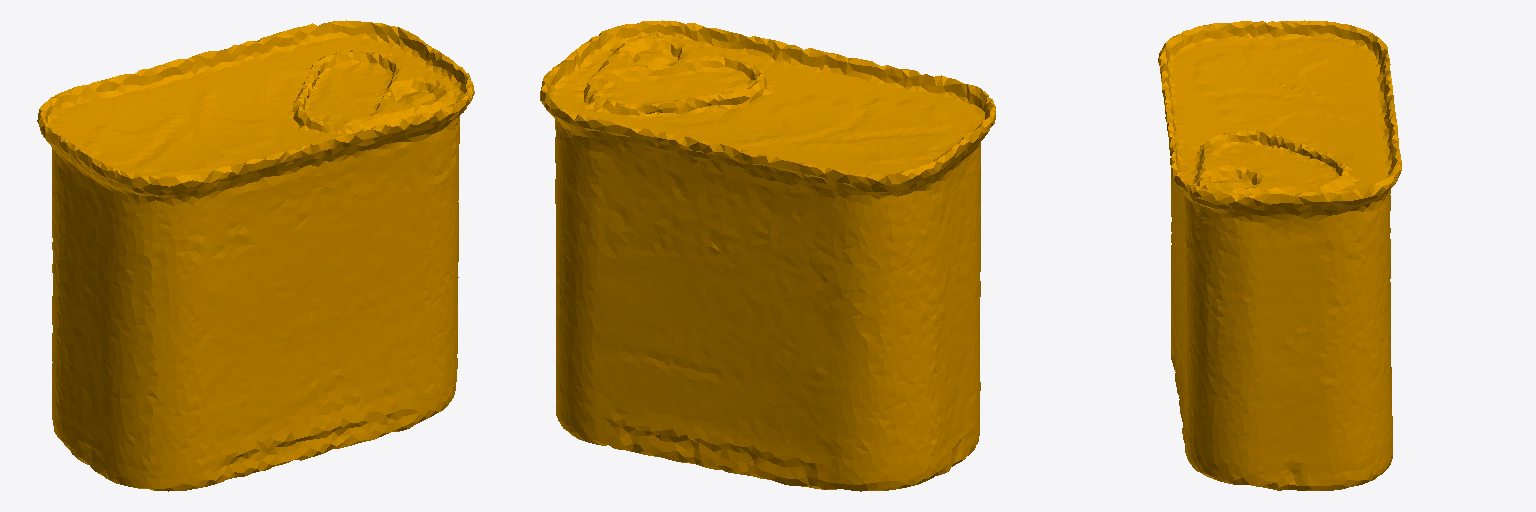
robot.urdf — potted_meat_can:
<robot name="potted_meat_can">
  <link name="object_root">
    <inertial>
      <origin xyz="0.0012470204199337238 0.00046915719766006024 0.0001545479399095329" rpy="0 0 0" />
      <mass value="0.32460081185292305" />
      <inertia ixx="0.0003007045244832713" iyy="0.0005005425137387742" izz="0.0003606108623638677" ixy="-1.376094369766983e-05" ixz="1.4272923083910087e-05" iyz="3.2004129971898213e-06" />
    </inertial>
    <collision name="right_object_0">
      <geometry>
        <mesh filename="right_object_0.obj" />
      </geometry>
    </collision>
    <collision name="right_object_1">
      <geometry>
        <mesh filename="right_object_1.obj" />
      </geometry>
    </collision>
    <collision name="right_object_2">
      <geometry>
        <mesh filename="right_object_2.obj" />
      </geometry>
    </collision>
    <collision name="right_object_3">
      <geometry>
        <mesh filename="right_object_3.obj" />
      </geometry>
    </collision>
    <collision name="right_object_4">
      <geometry>
        <mesh filename="right_object_4.obj" />
      </geometry>
    </collision>
    <collision name="right_object_5">
      <geometry>
        <mesh filename="right_object_5.obj" />
      </geometry>
    </collision>
    <collision name="right_object_6">
      <geometry>
        <mesh filename="right_object_6.obj" />
      </geometry>
    </collision>
    <collision name="right_object_7">
      <geometry>
        <mesh filename="right_object_7.obj" />
      </geometry>
    </collision>
    <collision name="right_object_8">
      <geometry>
        <mesh filename="right_object_8.obj" />
      </geometry>
    </collision>
    <visual name="right_object_visual">
      <geometry>
        <mesh filename="right_object_visual.obj" />
      </geometry>
    </visual>
  </link>
</robot>

--- What the picture shows (computed from the rendered views, not written in the file) ---
The picture shows the robot from 3 angles, left to right: view 1: azimuth 30°, elevation 25°; view 2: azimuth 150°, elevation 25°; view 3: azimuth 270°, elevation 25°; orthographic projection.
Robot: potted_meat_can — 1 links, 0 joints (none); root link object_root; default pose: all joints at 0.
Links seen in each view (by area): view 1: object_root; view 2: object_root; view 3: object_root.
Boxes of the visible links, left/top/right/bottom form: object_root: left=37, top=20, right=474, bottom=491; object_root: left=540, top=20, right=995, bottom=491; object_root: left=1158, top=20, right=1401, bottom=490.
Bounding box of the posed robot: 0.1021 × 0.0603 × 0.0836 m (x, y, z).
1 mesh visuals loaded from 1 distinct referenced files (1 OBJ).
